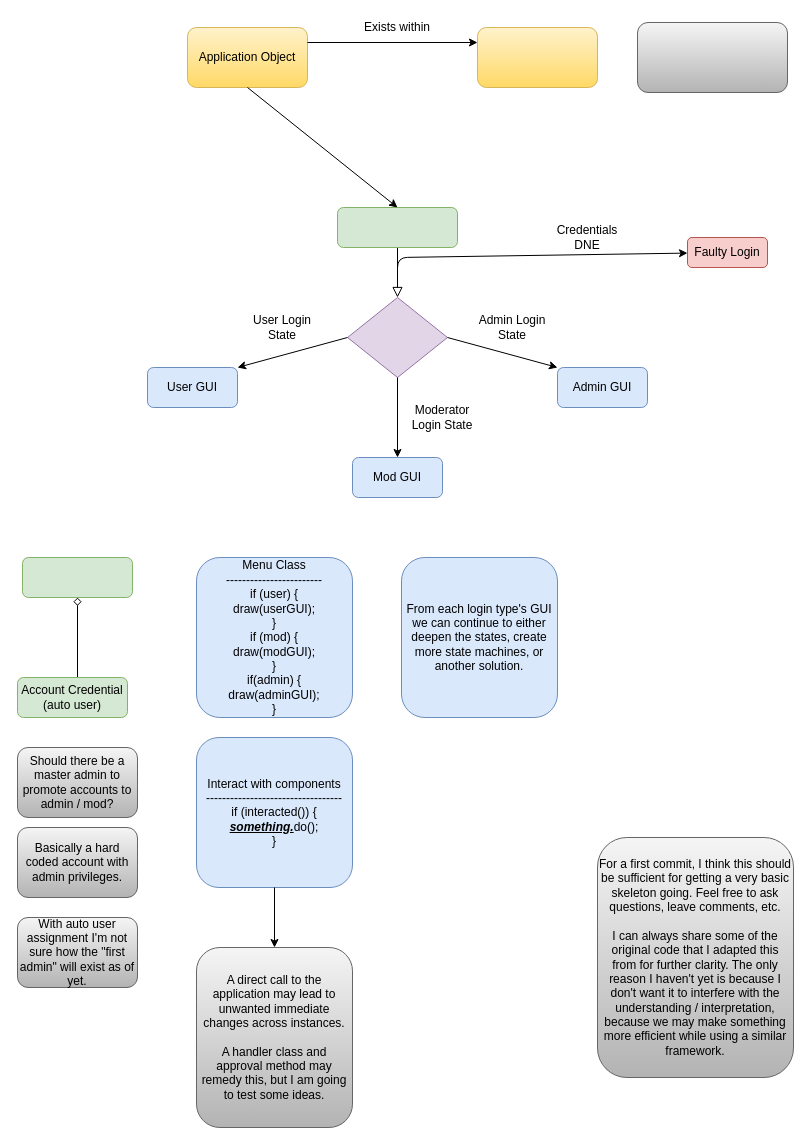
Some shapes in this 811 by 1145 pixel diagram are drawn without their labels. The shapes that lost their labels are listed below. From the top down, each one's centre as x and y in pixels, then its label:
At pixel 537 57: "Window".
At pixel 712 57: "Can use frame.add() to create instance of application within window.".
At pixel 397 227: "Application Login".
At pixel 397 337: "State Machine".
At pixel 77 577: "User Account Object".
